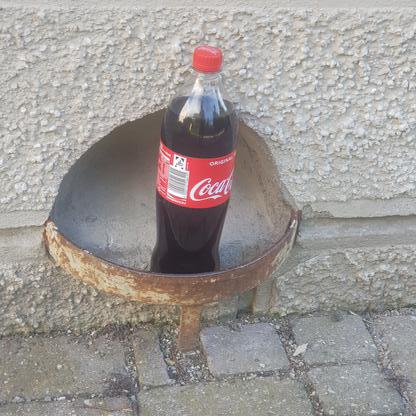coca-cola: (149, 45, 237, 279)
